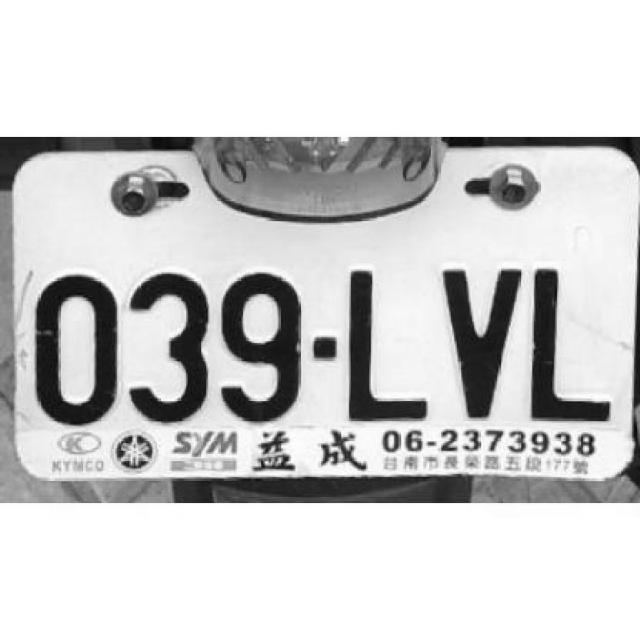-: (312, 335, 338, 360)
0: (30, 263, 121, 429)
3: (121, 266, 212, 422)
9: (213, 269, 304, 422)
L: (528, 265, 612, 420), (342, 271, 429, 414)
V: (437, 261, 523, 417)
